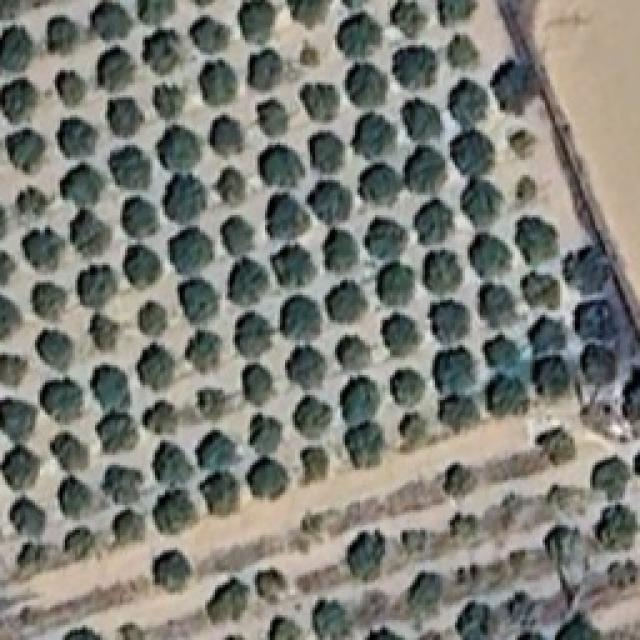Tree: (490, 59, 539, 115), (563, 245, 609, 295), (163, 174, 207, 224), (450, 129, 495, 176), (462, 176, 503, 227), (337, 13, 382, 59), (156, 124, 201, 170), (352, 113, 397, 159), (169, 228, 214, 274), (266, 193, 310, 240), (515, 217, 558, 265), (308, 180, 353, 225), (153, 489, 198, 534), (448, 79, 488, 129), (206, 578, 249, 624), (434, 347, 475, 395), (347, 530, 385, 581), (60, 163, 105, 206), (469, 233, 512, 278), (70, 209, 111, 256), (404, 145, 445, 192), (228, 258, 268, 306), (90, 364, 130, 412), (340, 377, 380, 425), (359, 163, 403, 206), (345, 62, 388, 106), (272, 245, 317, 287), (136, 343, 175, 391), (23, 228, 66, 271), (325, 280, 368, 323), (178, 279, 219, 324), (285, 345, 326, 390), (259, 146, 305, 186), (344, 421, 383, 468), (486, 374, 529, 416), (5, 129, 45, 174), (41, 378, 81, 423), (0, 445, 40, 490), (199, 471, 239, 516), (199, 60, 238, 106), (280, 297, 321, 340), (153, 442, 194, 485), (96, 411, 139, 452), (429, 300, 470, 343), (96, 46, 135, 91), (0, 78, 38, 124), (142, 29, 180, 75), (234, 311, 272, 357), (365, 218, 406, 260), (247, 456, 288, 498), (544, 525, 585, 567), (403, 98, 443, 141), (78, 265, 118, 308), (393, 49, 436, 89), (423, 252, 463, 295), (195, 430, 238, 470), (438, 394, 481, 434), (414, 200, 453, 244), (376, 261, 414, 306), (479, 282, 517, 327), (597, 504, 635, 549), (123, 245, 162, 288), (293, 395, 332, 438), (591, 457, 630, 500), (381, 313, 419, 357), (153, 550, 192, 592), (408, 573, 442, 620), (121, 196, 159, 238), (528, 315, 567, 355), (577, 302, 618, 340), (535, 427, 576, 465), (0, 399, 36, 442), (91, 2, 131, 40), (312, 600, 350, 640), (189, 16, 230, 53), (309, 131, 345, 173), (37, 329, 73, 371), (185, 330, 221, 372), (580, 344, 616, 386), (300, 84, 340, 121), (209, 115, 244, 157), (324, 229, 358, 272), (60, 119, 98, 157), (113, 151, 151, 189), (50, 433, 88, 471), (0, 25, 32, 70), (248, 49, 283, 90), (249, 413, 283, 455), (243, 0, 276, 43), (104, 466, 142, 503), (10, 496, 45, 536), (534, 359, 570, 397), (220, 216, 254, 256), (59, 476, 92, 517), (335, 335, 371, 371), (392, 0, 427, 37), (522, 271, 557, 308), (110, 98, 144, 136), (243, 364, 273, 406), (484, 334, 520, 369), (391, 369, 425, 406), (458, 602, 491, 640), (215, 166, 246, 206), (555, 613, 600, 640), (546, 484, 586, 514), (153, 84, 186, 120), (113, 509, 146, 545), (288, 0, 330, 28), (443, 464, 477, 498), (143, 400, 178, 433), (48, 16, 79, 53), (258, 99, 289, 136), (34, 284, 65, 320), (89, 314, 119, 351), (399, 413, 428, 451), (448, 34, 479, 69), (58, 70, 87, 106), (64, 527, 95, 560), (438, 0, 476, 26), (139, 301, 167, 336), (257, 567, 285, 602), (300, 448, 326, 484), (623, 367, 640, 422), (18, 186, 49, 216), (507, 592, 535, 625), (1, 295, 22, 338), (608, 559, 638, 589), (500, 491, 523, 530), (0, 354, 28, 386), (138, 0, 175, 24), (509, 129, 537, 159), (201, 390, 226, 420), (450, 513, 478, 539), (267, 617, 297, 640), (23, 545, 47, 570), (401, 529, 425, 554), (516, 175, 536, 202), (63, 627, 102, 640), (456, 564, 479, 586), (366, 627, 404, 640), (509, 549, 527, 576), (301, 513, 324, 534), (1, 252, 15, 285), (300, 41, 318, 66), (119, 622, 144, 640), (0, 0, 20, 19), (515, 630, 545, 640), (0, 208, 8, 241), (419, 630, 443, 640), (342, 1, 368, 10), (632, 452, 640, 475), (193, 1, 214, 7), (226, 634, 247, 640)
